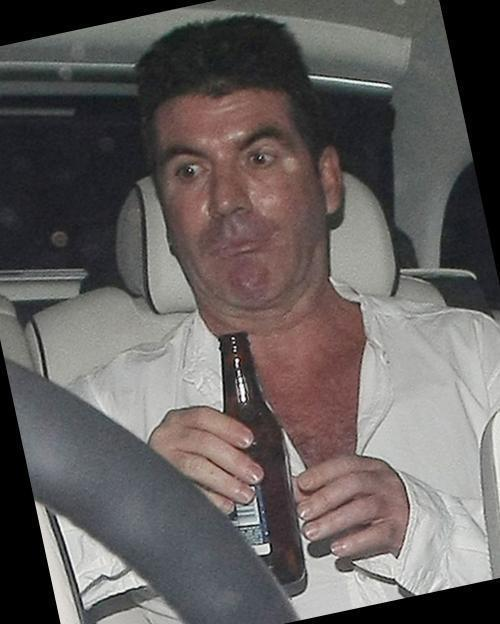Drunk: (153, 102, 321, 301)
